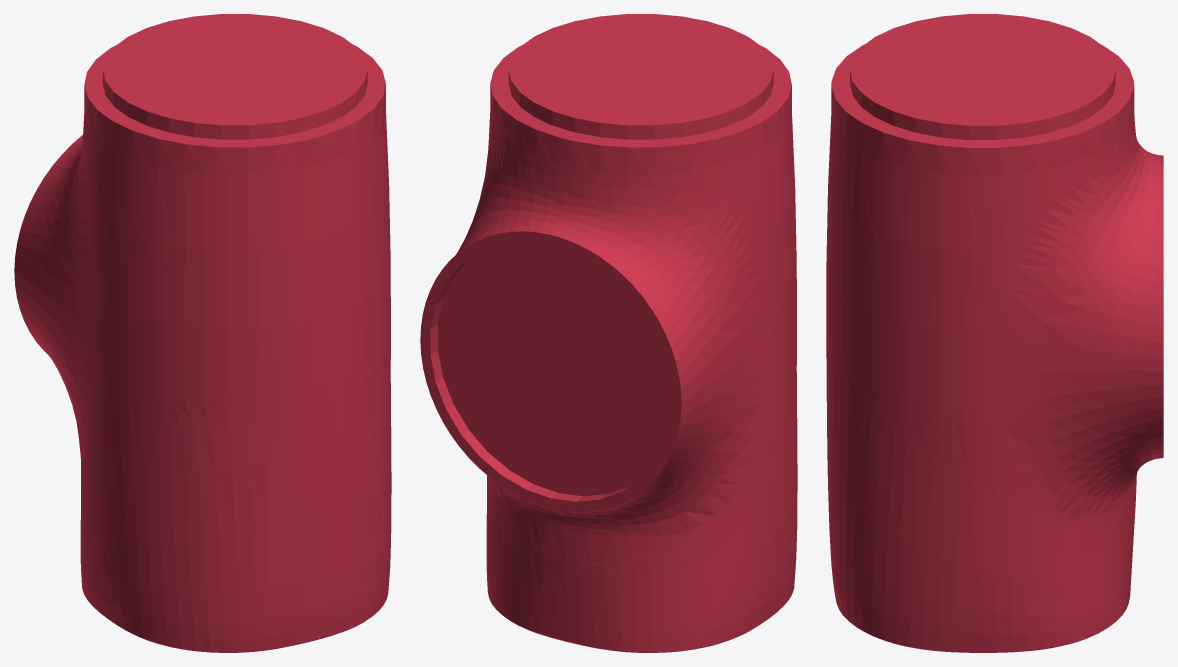
3 renders of one model, left to right at view 1: azimuth 30°, elevation 25°; view 2: azimuth 150°, elevation 25°; view 3: azimuth 270°, elevation 25°, orthographic.
Parts seen in each view (by area): view 1: Link5_001-mesh; view 2: Link5_001-mesh; view 3: Link5_001-mesh.
Boxes of the visible parts, left/top/right/bottom form: Link5_001-mesh: left=14, top=14, right=391, bottom=652; Link5_001-mesh: left=420, top=14, right=797, bottom=652; Link5_001-mesh: left=826, top=14, right=1163, bottom=652.
Size of the model in its own units: 0.0848 by 0.1588 by 0.0914.
